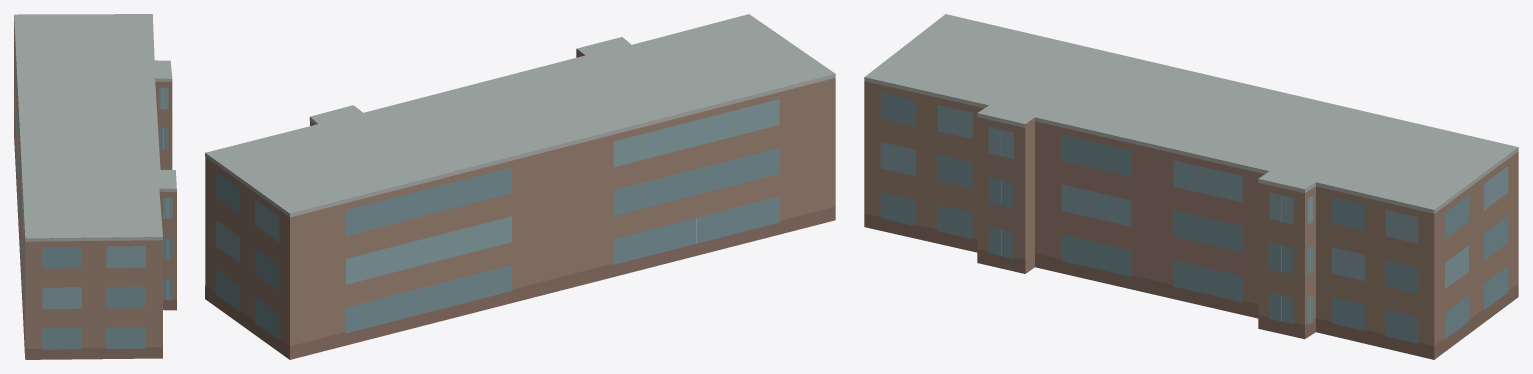
Rendered from survey-upis-32876798.glb.
3 views of the same model, side by side, from view 1: azimuth 30°, elevation 25°; view 2: azimuth 150°, elevation 25°; view 3: azimuth 270°, elevation 25° (orthographic). The views are drawn at different scales.
Parts seen in each view (by area): view 1: survey-upis-32876798.tmp; view 2: survey-upis-32876798.tmp; view 3: survey-upis-32876798.tmp.
Part boxes in pixels (x1,y1,x2,y2): survey-upis-32876798.tmp: (14, 14, 176, 359); survey-upis-32876798.tmp: (205, 14, 835, 359); survey-upis-32876798.tmp: (864, 14, 1518, 359).
Size of the model in its own units: 25.66 by 9.15 by 36.2.
